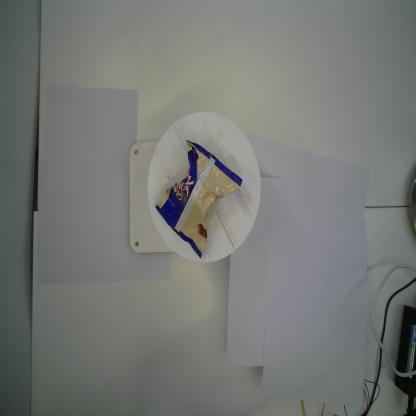Dessert: (155, 139, 243, 259)
